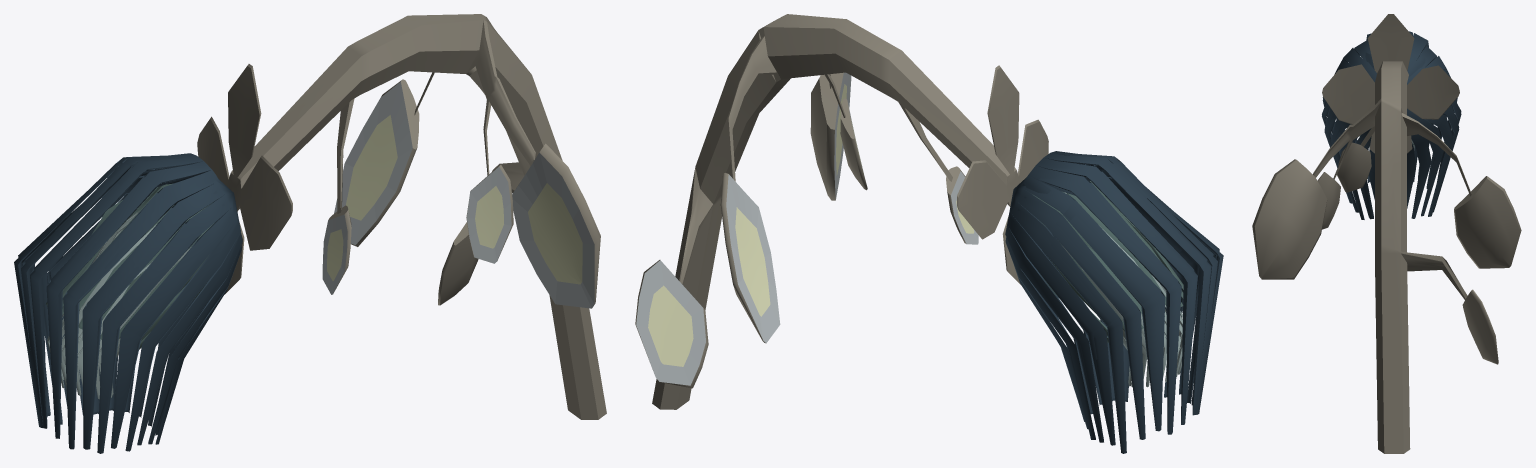
The model's file is Planta Morta_16H.fbx.
The picture shows the model from 3 angles, left to right: view 1: azimuth 30°, elevation 25°; view 2: azimuth 150°, elevation 25°; view 3: azimuth 270°, elevation 25°; orthographic projection. The views are drawn at different scales.
Visible parts, largest first — view 1: pCylinder6, pCube4, pCube5, pCube8, pCube6, pCylinder1, pCylinder5, pCube2, pCube7; view 2: pCylinder6, pCube4, pCube7, pCube8, pCube5, pCylinder5, pCylinder1, pCube6, pCube2; view 3: pCube4, pCylinder6, pCube5, pCube8, pCube7, pCube2, pCube6.
Part boxes in pixels (x1,y1,x2,y2): pCylinder6: (14,153,242,453); pCube4: (197,14,606,419); pCube5: (512,143,600,308); pCube8: (334,79,419,246); pCube6: (466,165,513,263); pCylinder1: (47,210,191,399); pCylinder5: (46,183,213,349); pCube2: (322,205,351,294); pCube7: (438,222,478,305); pCylinder6: (1005,151,1223,453); pCube4: (652,14,1048,409); pCube7: (635,260,708,388); pCube8: (720,173,780,343); pCube5: (810,72,851,200); pCylinder5: (1032,181,1183,342); pCylinder1: (1062,192,1182,387); pCube6: (840,98,867,190); pCube2: (946,166,978,244); pCube4: (1313,14,1471,453); pCylinder6: (1322,31,1461,219); pCube5: (1252,159,1327,279); pCube8: (1454,176,1521,268); pCube7: (1462,289,1498,364); pCube2: (1337,142,1371,192); pCube6: (1317,172,1340,229).
Bounding box in the file's own units: 981 × 714 × 547.
